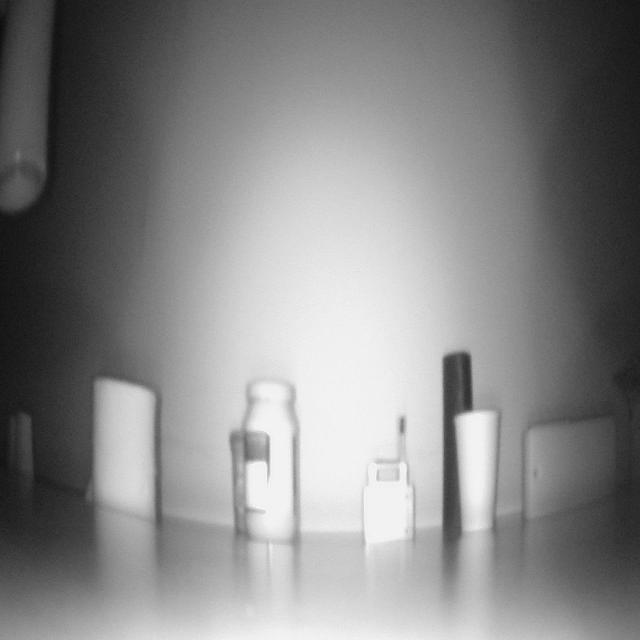targets: (234, 373, 298, 538), (444, 360, 497, 537), (526, 419, 618, 516), (93, 380, 157, 510), (365, 462, 414, 550), (8, 417, 32, 473)
